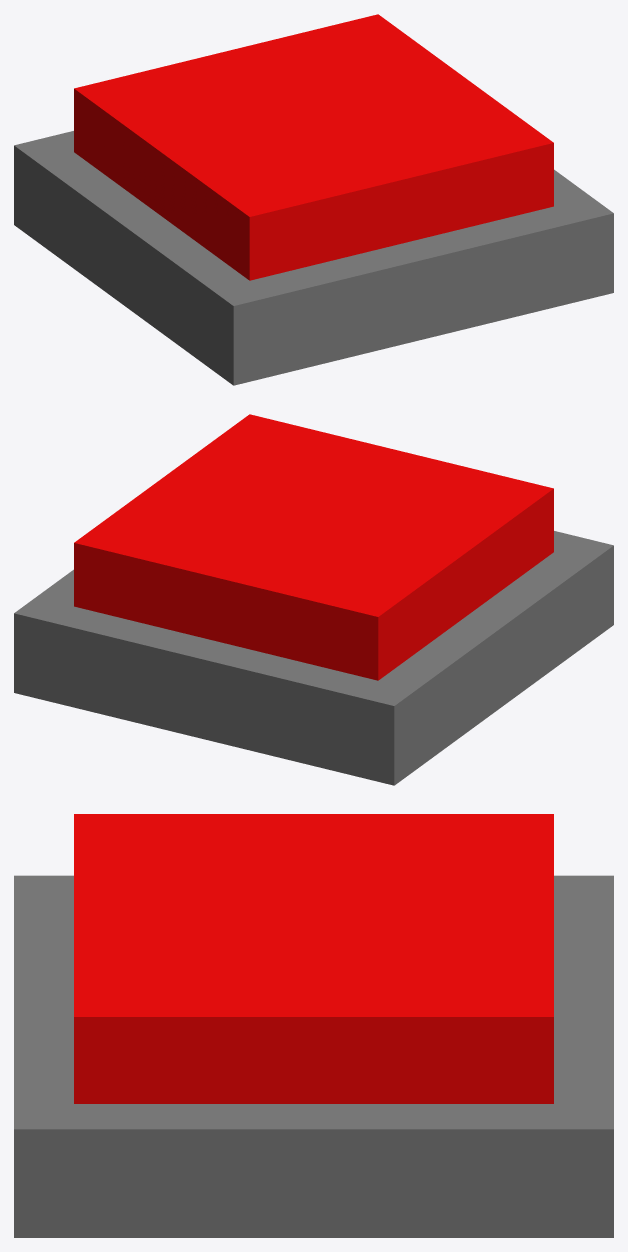
The model's file is PressurePlate 1.fbx.
3 renders of one model, top to bottom at view 1: azimuth 30°, elevation 25°; view 2: azimuth 150°, elevation 25°; view 3: azimuth 270°, elevation 25°, orthographic. The views are drawn at different scales.
Visible parts, largest first — view 1: Cube__1_, Cube; view 2: Cube__1_, Cube; view 3: Cube__1_, Cube.
Part boxes in pixels (bbox=[...]): Cube__1_: bbox=[74, 14, 553, 280]; Cube: bbox=[14, 131, 613, 385]; Cube__1_: bbox=[74, 414, 553, 680]; Cube: bbox=[14, 531, 613, 785]; Cube__1_: bbox=[74, 814, 553, 1103]; Cube: bbox=[14, 875, 613, 1237].
Bounding box in the file's own units: 100 × 36 × 100.
